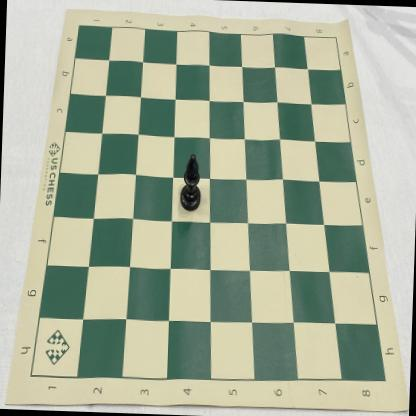black-bishop: (179, 152, 203, 212)
